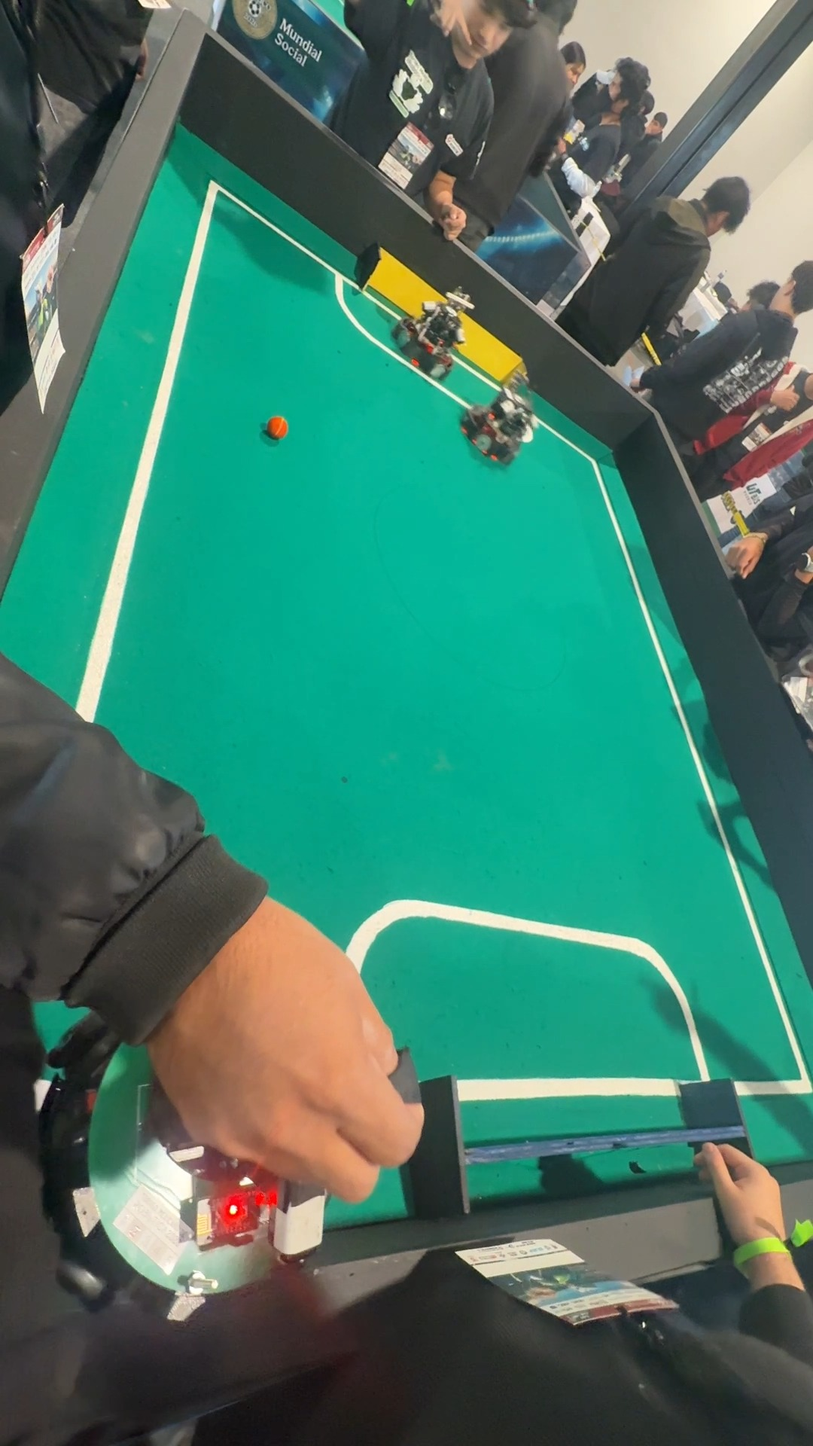Robot: (451, 375, 541, 479), (396, 287, 470, 382)
pelota: (256, 407, 297, 448)
